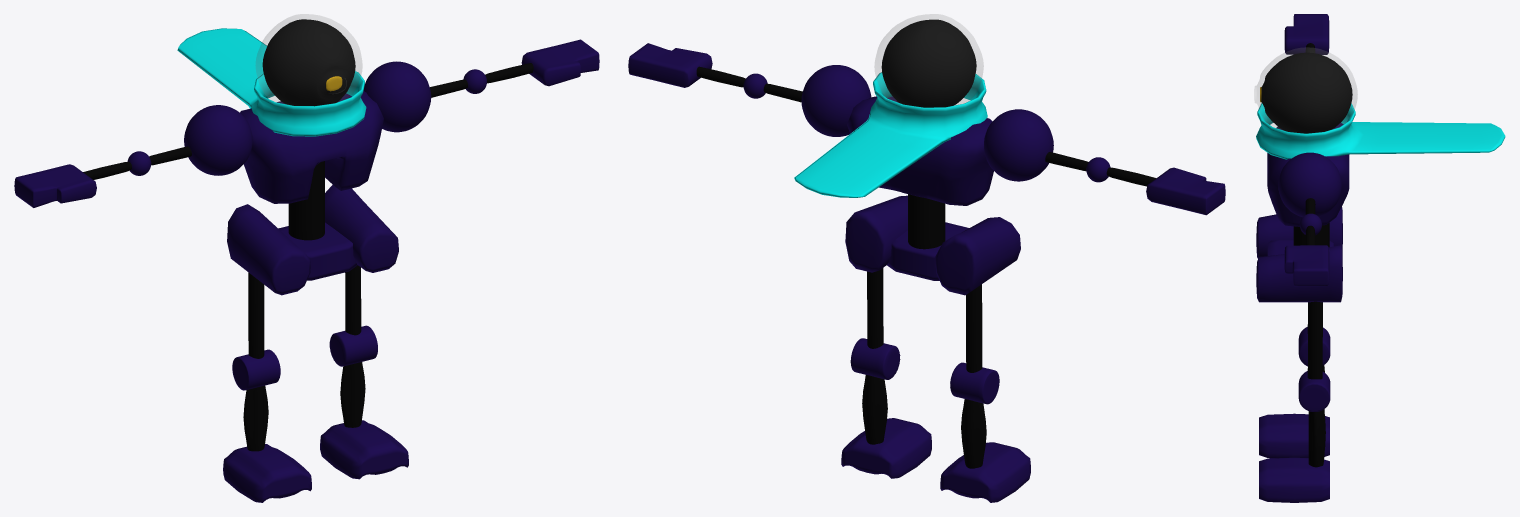
The model's file is hero 2.fbx.
3 views of the same model, side by side, from view 1: azimuth 30°, elevation 25°; view 2: azimuth 150°, elevation 25°; view 3: azimuth 270°, elevation 25° (orthographic). The views are drawn at different scales.
Parts seen in each view (by area): view 1: polySurface94; view 2: polySurface94; view 3: polySurface94.
Boxes of the visible parts, <box> form: polySurface94: <box>14,14,599,502</box>; polySurface94: <box>628,14,1225,502</box>; polySurface94: <box>1254,14,1505,502</box>.
Size of the model in its own units: 16.65 by 12.66 by 6.89.
